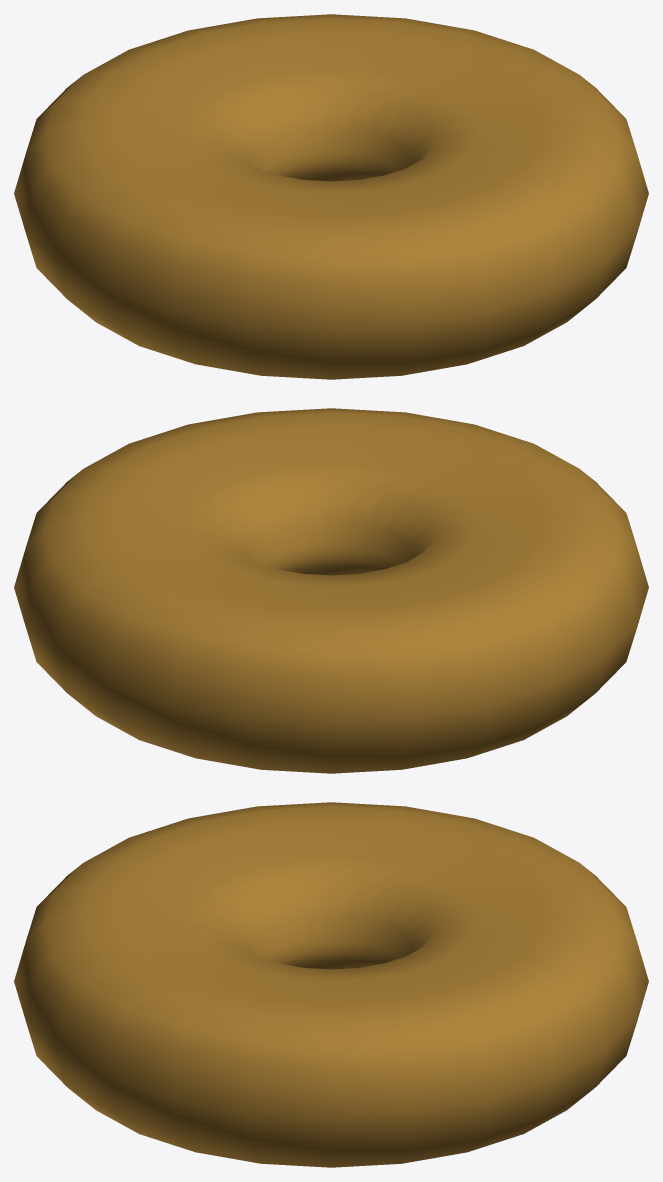
The model's file is Arena_Cheerio_01.fbx.
3 renders of one model, top to bottom at view 1: azimuth 30°, elevation 25°; view 2: azimuth 150°, elevation 25°; view 3: azimuth 270°, elevation 25°, orthographic.
Parts seen in each view (by area): view 1: Arena_Cheerio; view 2: Arena_Cheerio; view 3: Arena_Cheerio.
Boxes of the visible parts, x1,y1,x2,y2 form: Arena_Cheerio: [14, 14, 648, 379]; Arena_Cheerio: [14, 408, 648, 773]; Arena_Cheerio: [14, 802, 648, 1167].
Bounding box in the file's own units: 6380 × 1550 × 6380.
